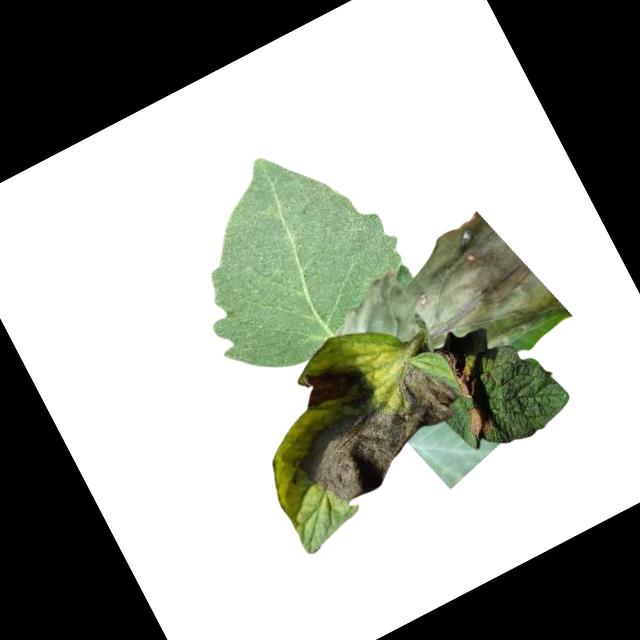Late_blight: (317, 196, 571, 410), (286, 357, 478, 515), (293, 353, 365, 416), (462, 401, 501, 441), (449, 361, 483, 402)
healthy: (149, 118, 427, 393)
